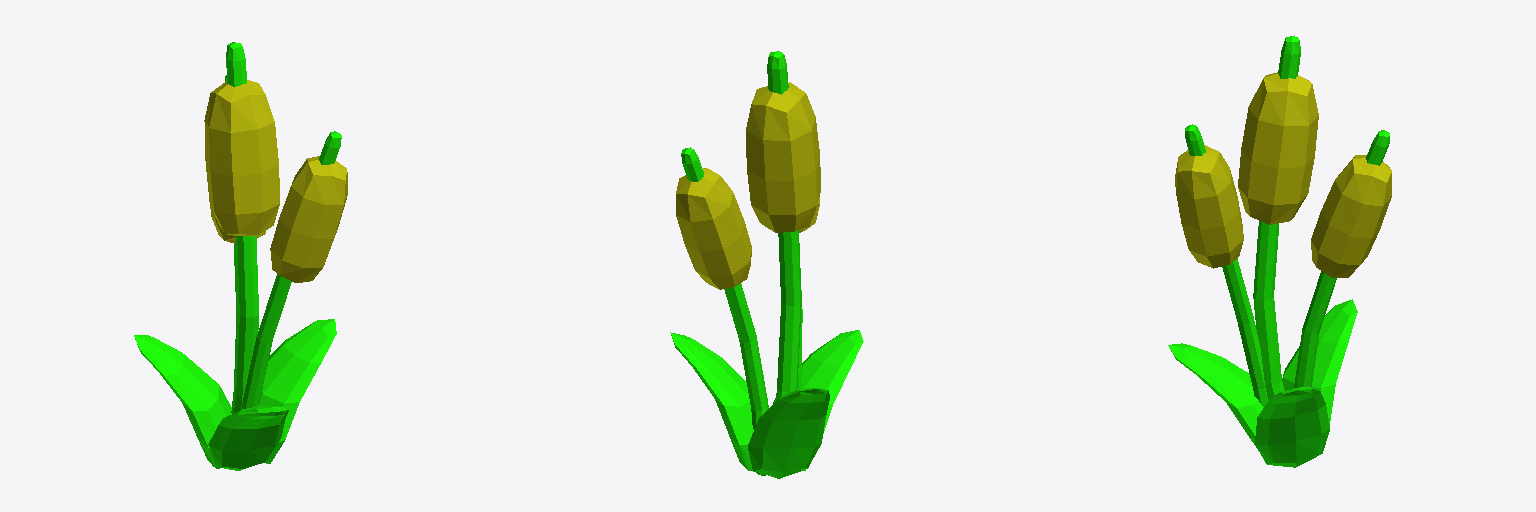
File: reeeds.obj
The picture shows the model from 3 angles: view 1: azimuth 30°, elevation 25°; view 2: azimuth 150°, elevation 25°; view 3: azimuth 270°, elevation 25°; orthographic projection.
Parts seen in each view (by area): view 1: reeeds; view 2: reeeds; view 3: reeeds.
Part boxes in pixels (left/top/right/bottom): reeeds: left=134, top=42, right=347, bottom=470; reeeds: left=670, top=51, right=863, bottom=478; reeeds: left=1168, top=36, right=1391, bottom=467.
Size of the model in its own units: 0.9917 by 2.28 by 1.09.